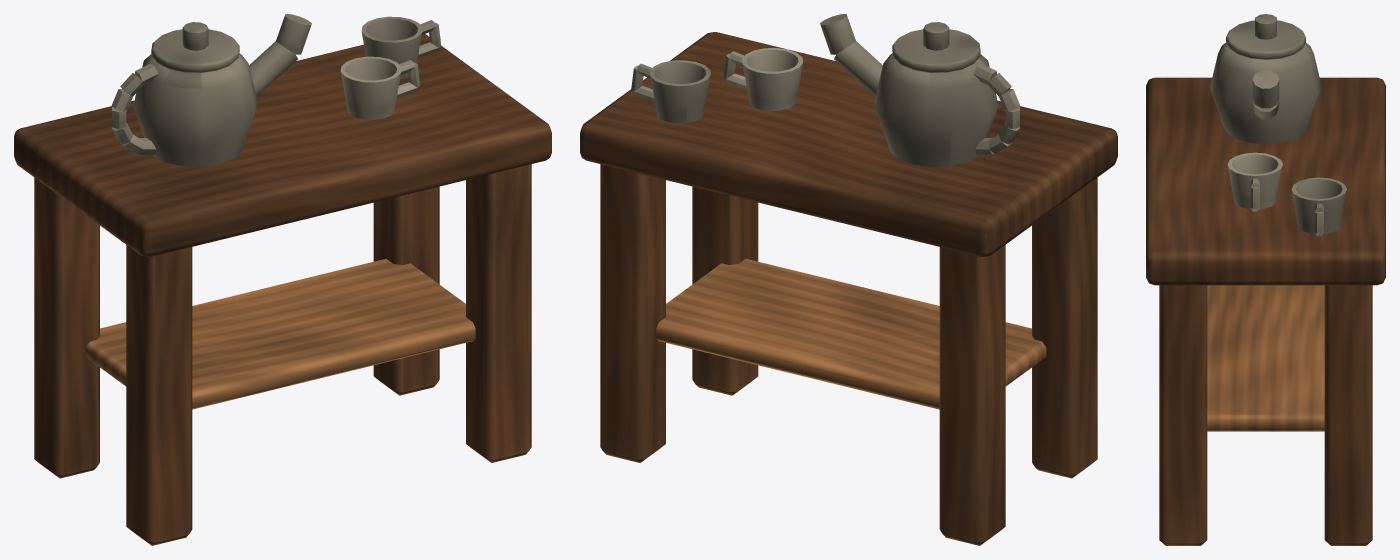
File: Furn_Council_TeaCart.fbx
The picture shows the model from 3 angles, left to right: view 1: azimuth 30°, elevation 25°; view 2: azimuth 150°, elevation 25°; view 3: azimuth 270°, elevation 25°; orthographic projection. The views are drawn at different scales.
Parts seen in each view (by area): view 1: Furn_Council_TeaCart; view 2: Furn_Council_TeaCart; view 3: Furn_Council_TeaCart.
Part boxes in pixels (left/top/right/bottom): Furn_Council_TeaCart: left=14, top=14, right=551, bottom=545; Furn_Council_TeaCart: left=580, top=14, right=1117, bottom=545; Furn_Council_TeaCart: left=1146, top=14, right=1385, bottom=545.
Bounding box in the file's own units: 0.8 × 0.843 × 0.45.
Materials: 3 (3 with a texture image).
